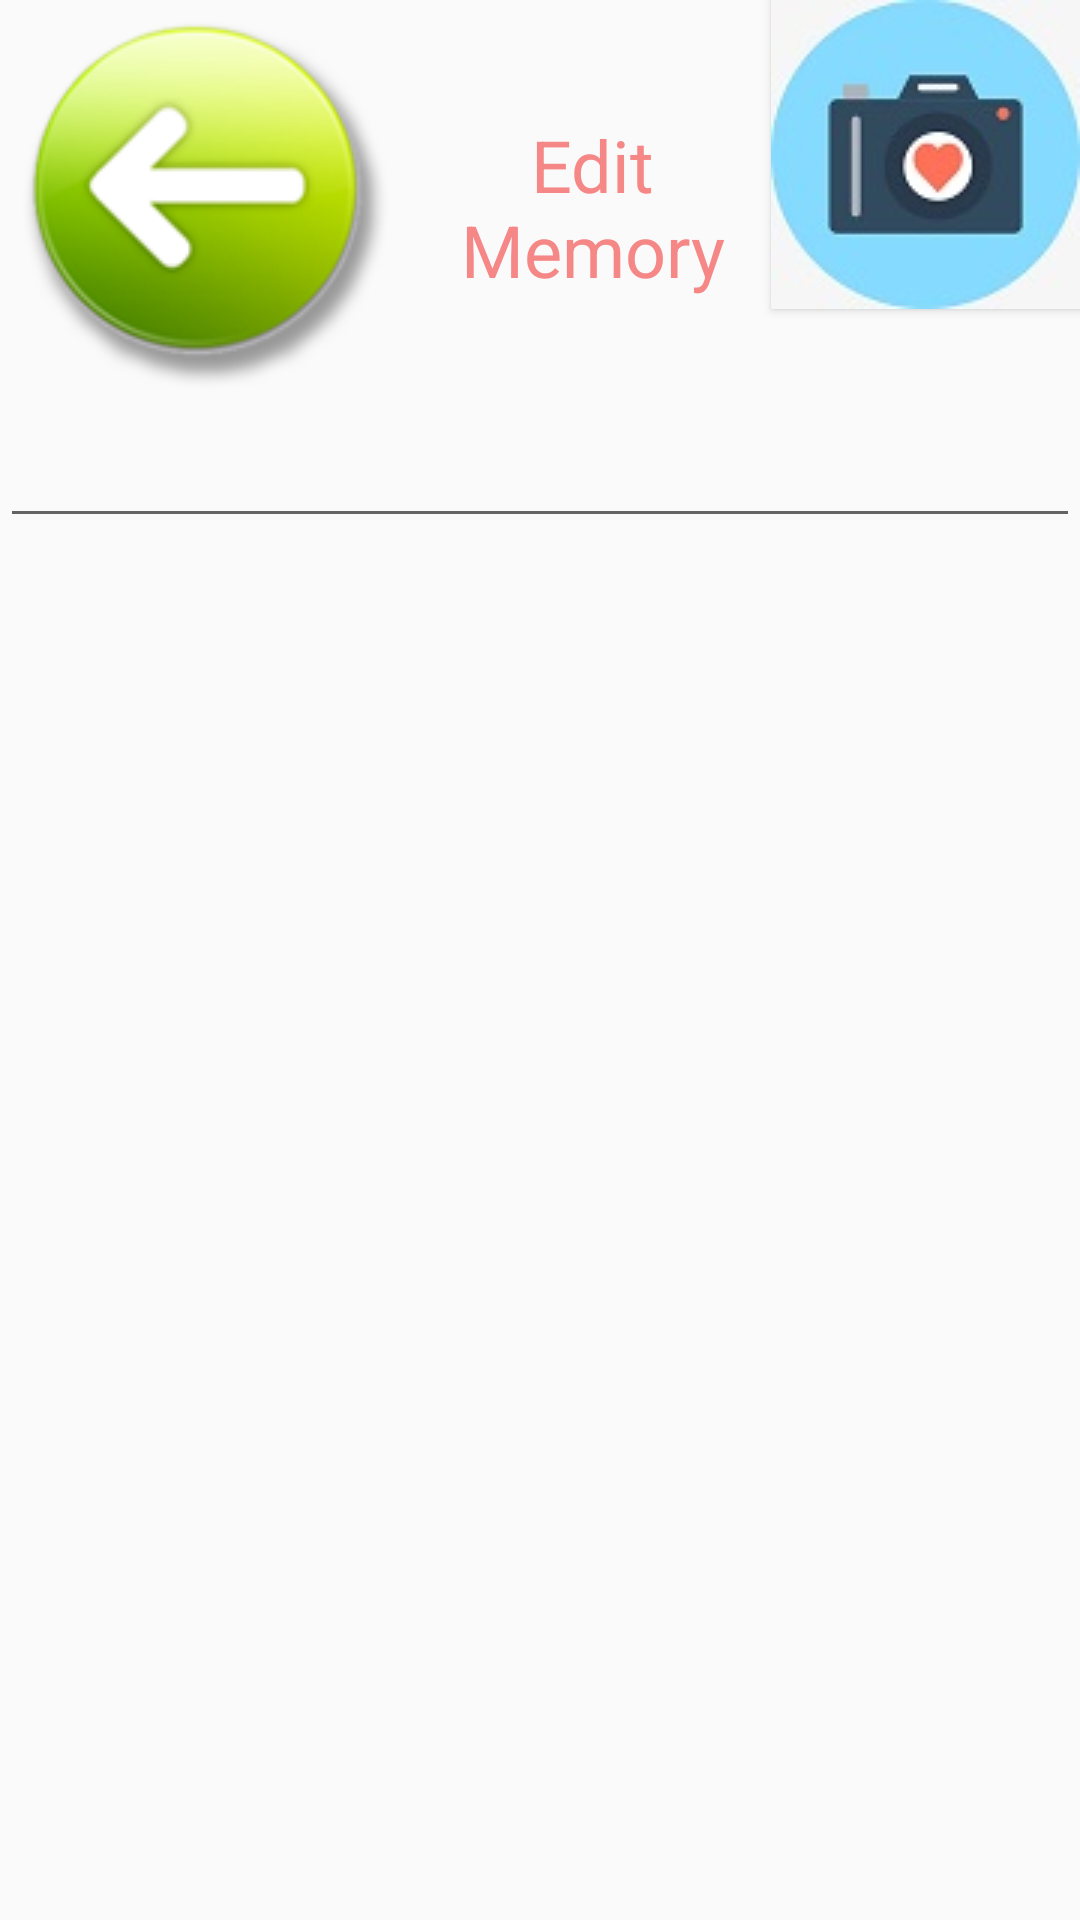

Icon click points for this 1080px×1920px phone screenshot, format (x=x, y=y):
editpicture: (x=925, y=154)
